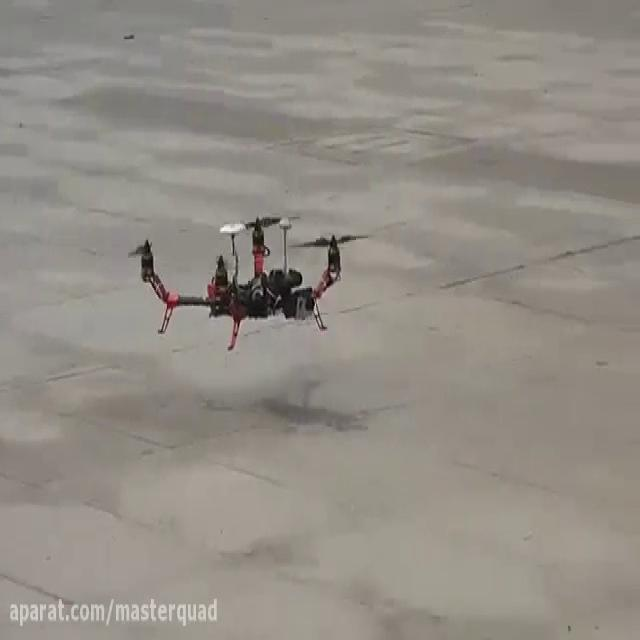drone: (121, 206, 374, 356)
